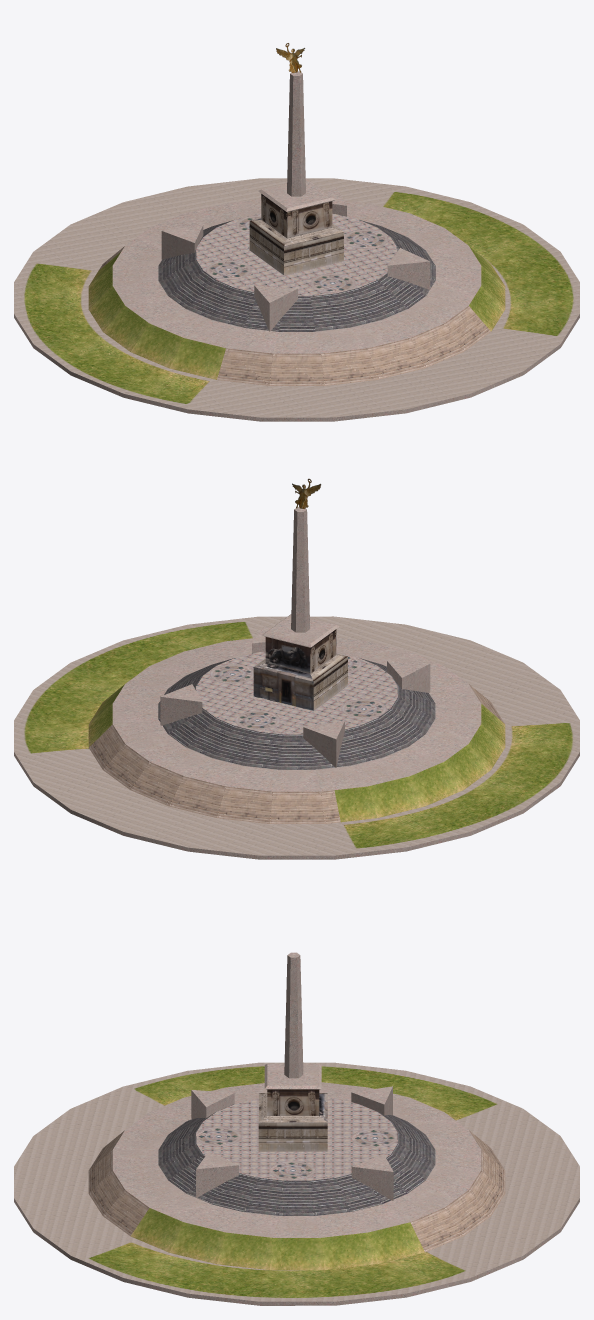
The model's file is AngelInd.obj.
3 renders of one model, top to bottom at view 1: azimuth 30°, elevation 25°; view 2: azimuth 150°, elevation 25°; view 3: azimuth 270°, elevation 25°, orthographic.
Parts seen in each view (by area): view 1: ID113; view 2: ID113; view 3: ID113.
Boxes of the visible parts, bbox=[...] form: ID113: bbox=[14, 43, 579, 421]; ID113: bbox=[14, 478, 579, 859]; ID113: bbox=[14, 952, 579, 1305].
Size of the model in its own units: 91.01 by 50.63 by 91.01.
